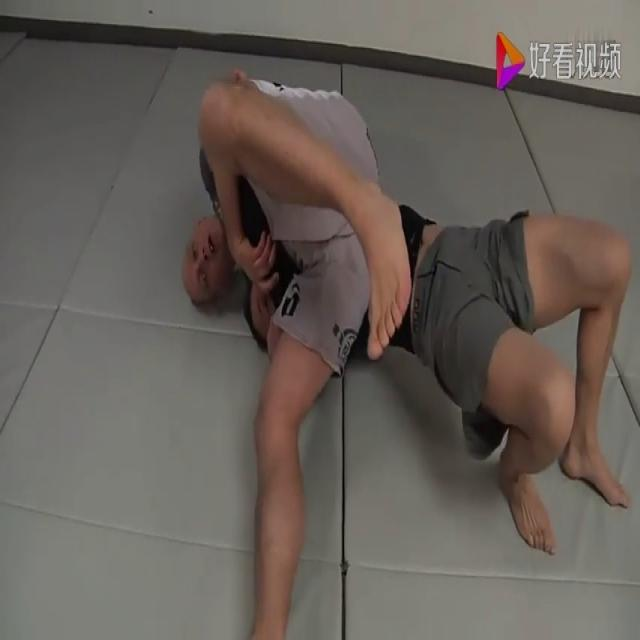fight: (157, 45, 639, 639)
